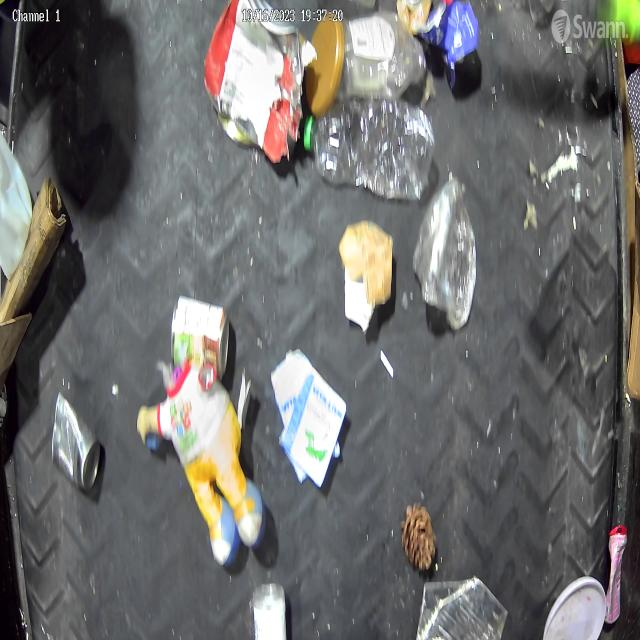can: (169, 293, 232, 382), (50, 388, 102, 494)
milk_jug: (0, 128, 36, 282)
plastic_bottle: (301, 94, 437, 204)
